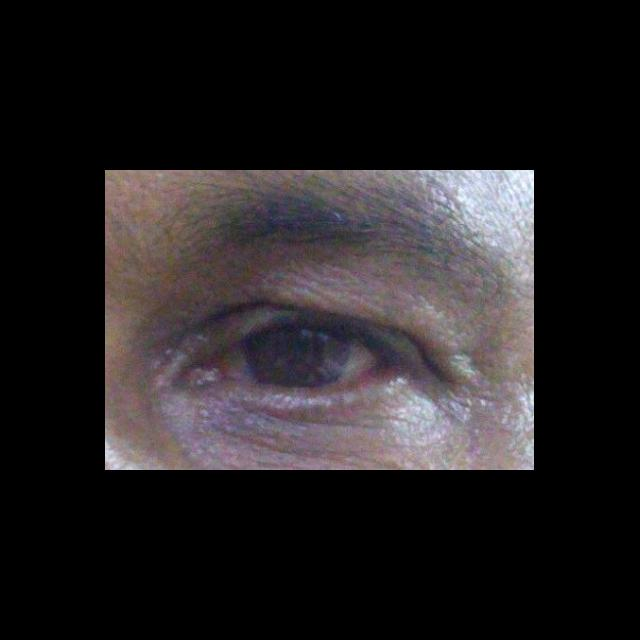eye: (226, 323, 382, 389)
iris: (245, 325, 350, 386)
